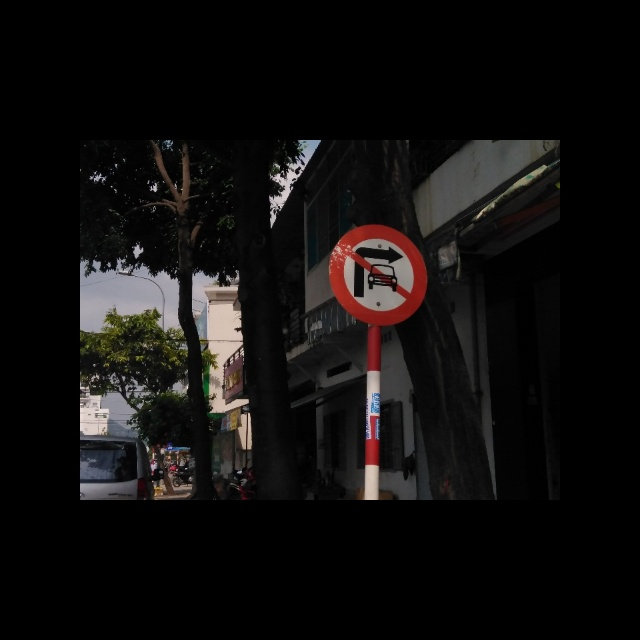Cấm xe ô tô rẽ trái: (326, 221, 429, 325)
